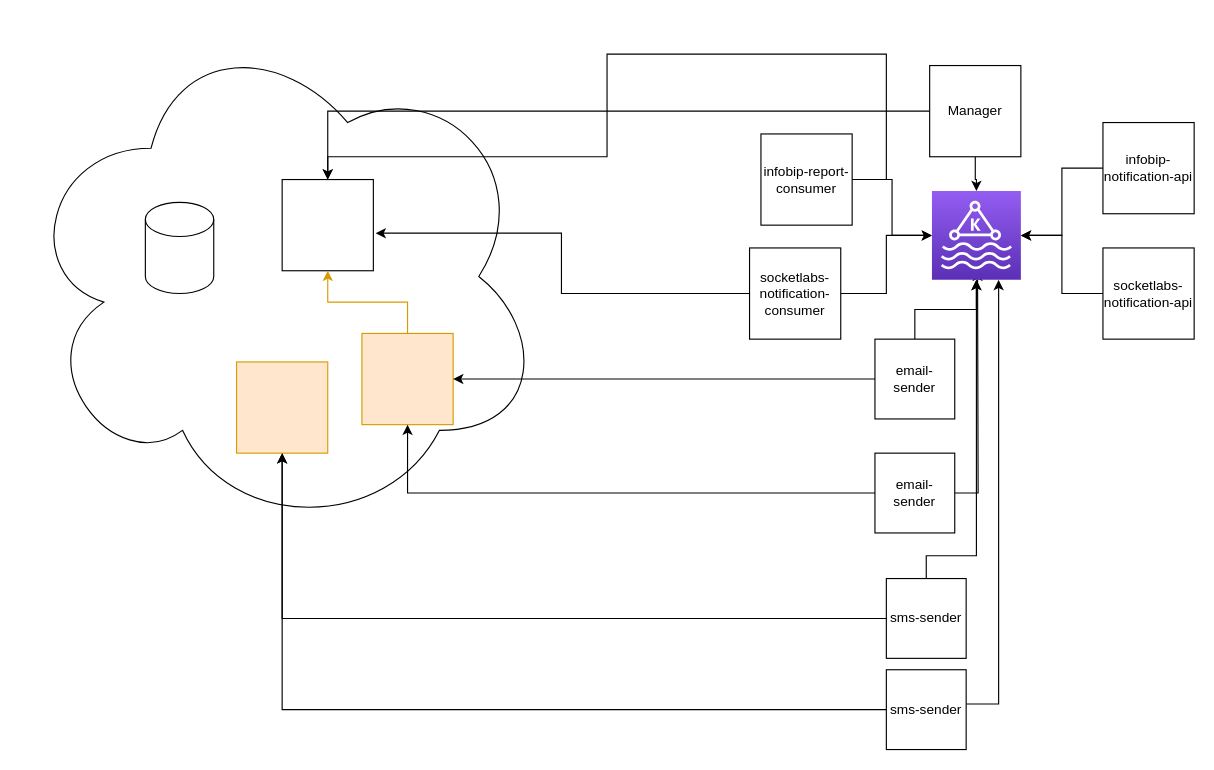
The diagram is 1214 pixels wide and 770 high, and some of its shapes have lost their labels. Each missing label, with the box of its shape:
BD biilingportal: (144, 201, 214, 294)
DigitalCampaigns API: (281, 178, 373, 271)
infobip-sms-sender: (235, 361, 328, 453)
socketlabs-email-sender: (361, 332, 453, 425)
